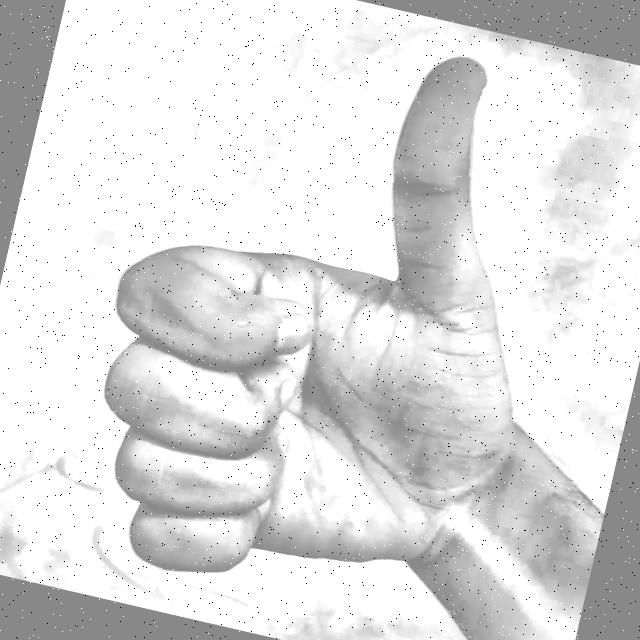Do: (3, 0, 597, 640)
